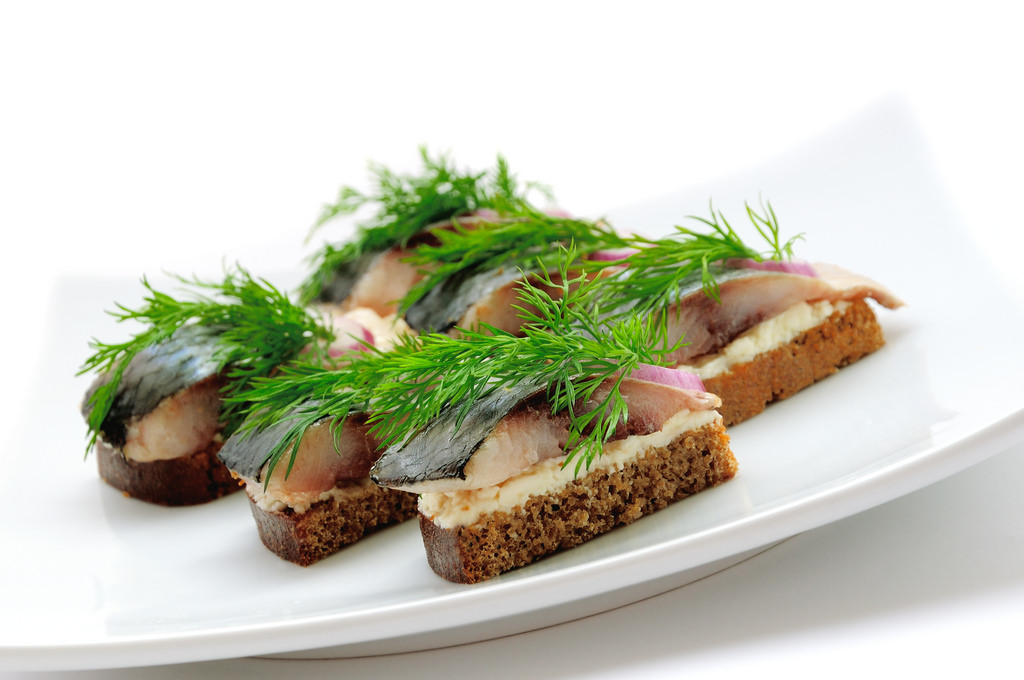slice of bread: (250, 465, 558, 524), (119, 424, 375, 488), (399, 427, 711, 478), (624, 332, 891, 386)
